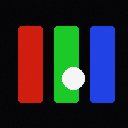2 circle: (62, 67, 84, 89)
